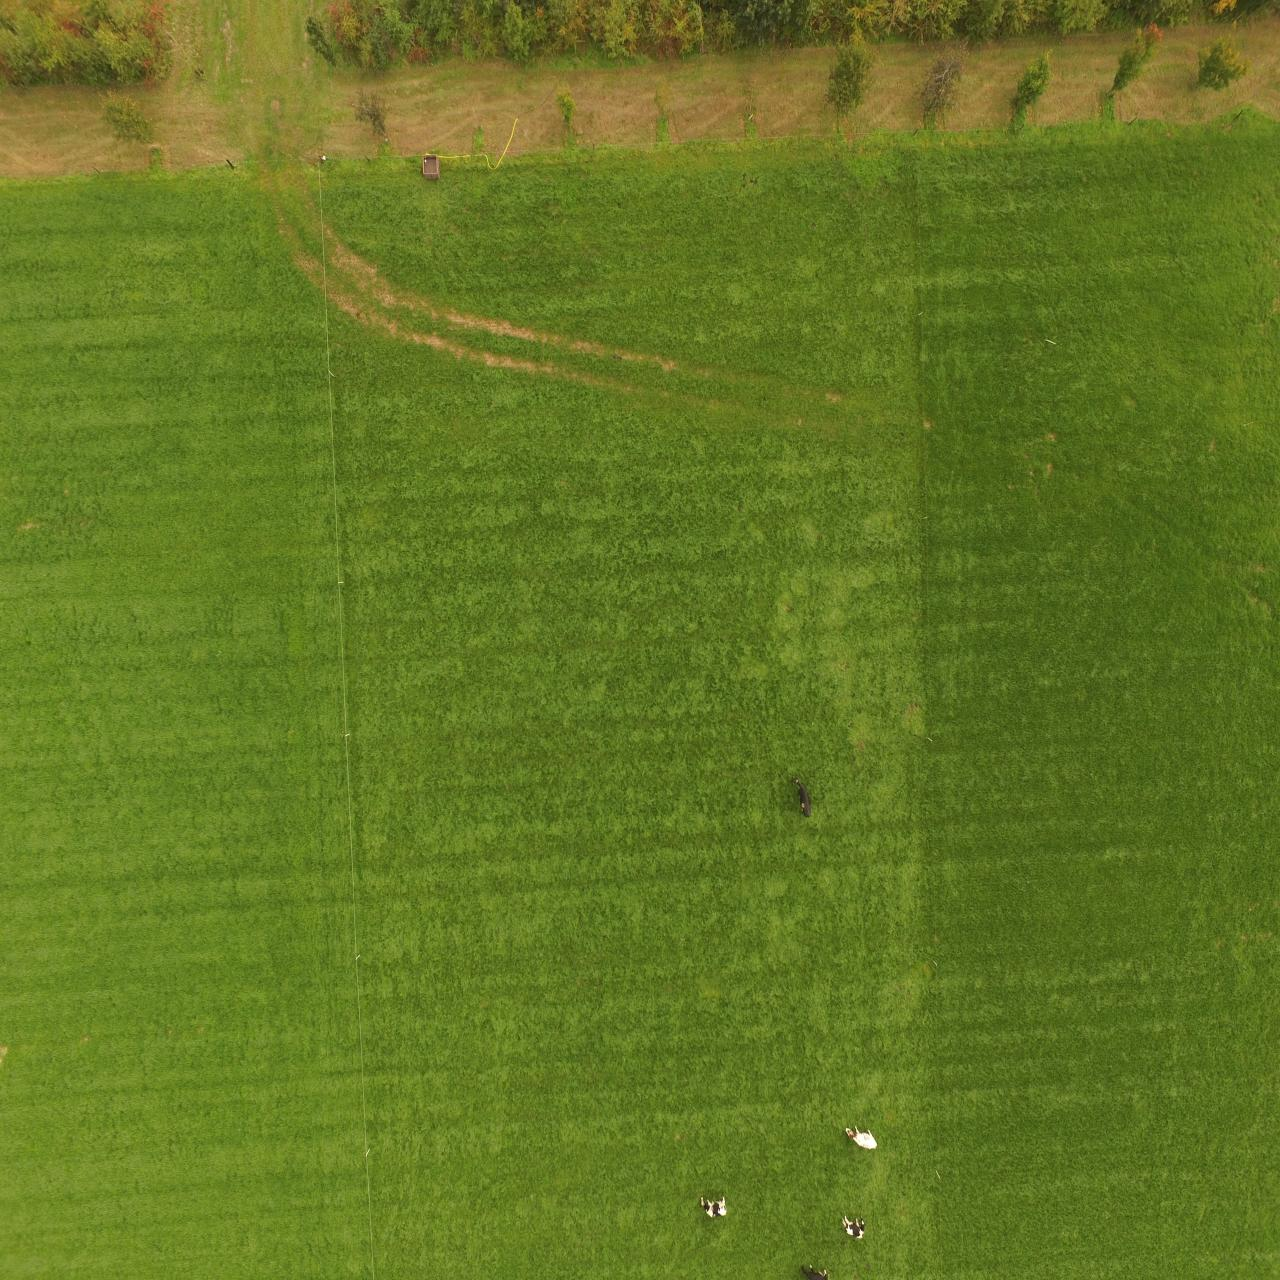cow: (844, 1122, 883, 1153), (791, 776, 816, 824), (696, 1193, 730, 1218), (842, 1209, 867, 1242)
